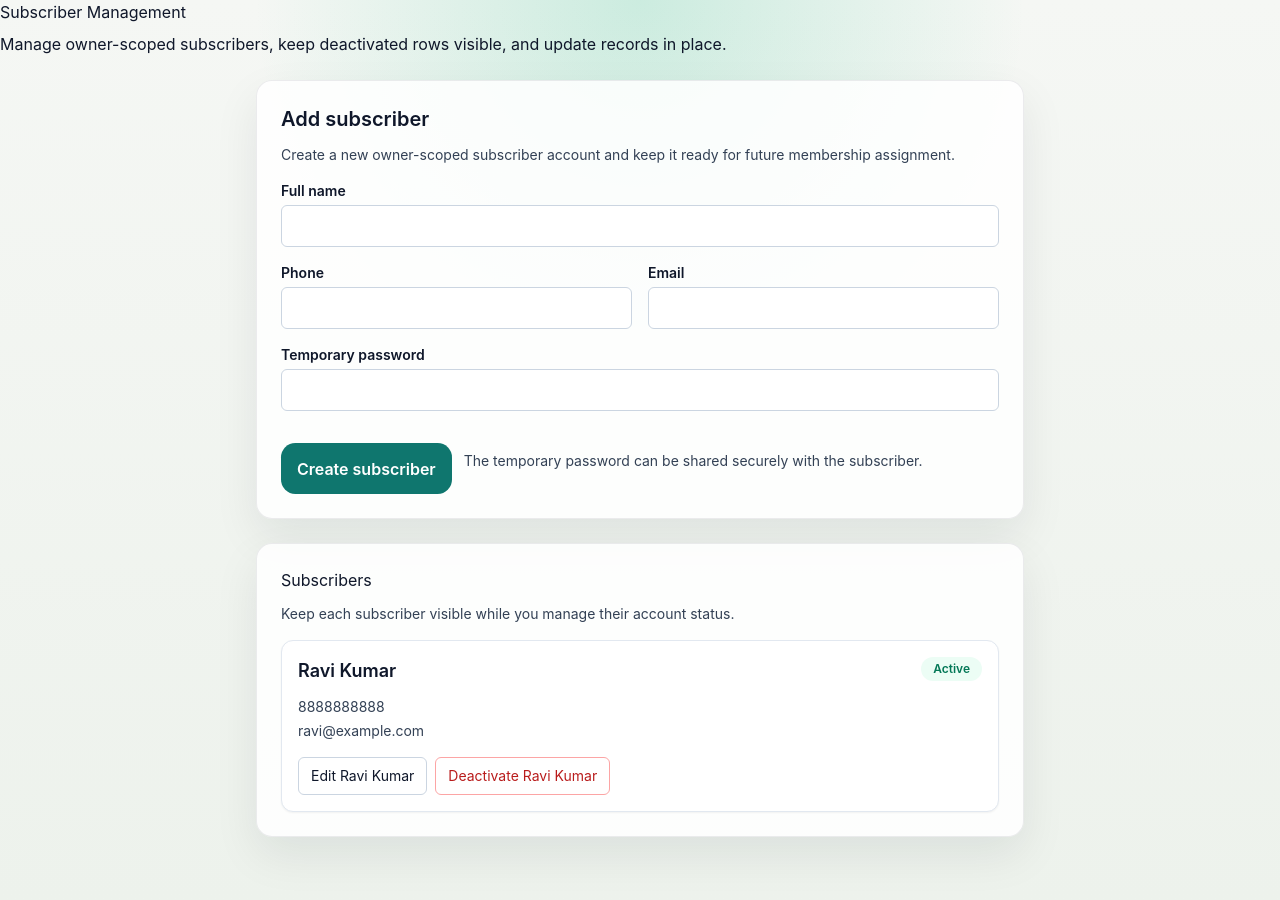
edits a subscriber in place and keeps the row visible after save
Check: the heading "Subscribers" is shown, box [281, 570, 372, 590]
Click the button "Edit Ravi Kumar".
click(363, 776)  # box [298, 757, 427, 795]
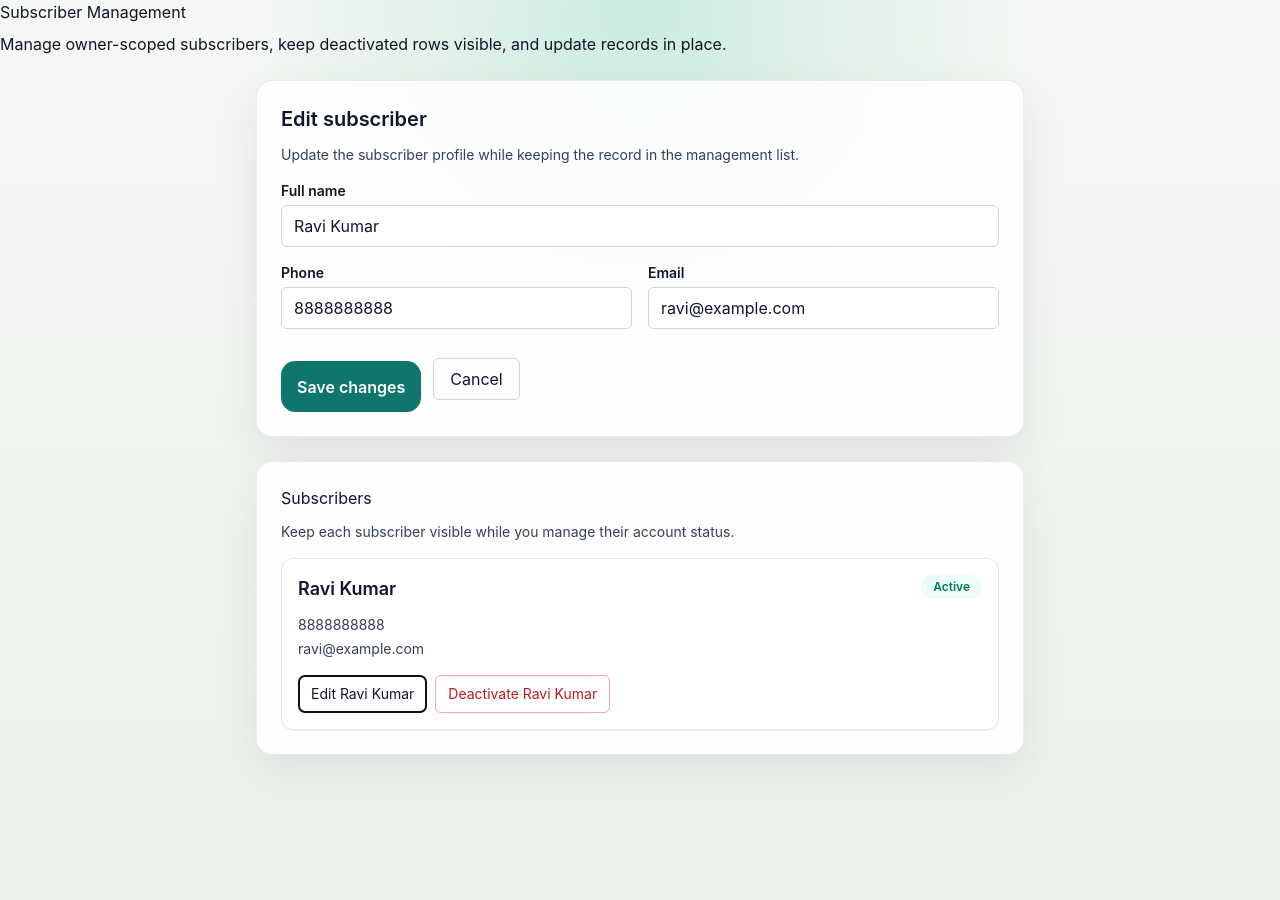
Check: the heading "Edit subscriber" is shown, box [281, 107, 427, 131]
Check: the field labelled "Full name" holds "Ravi Kumar"
Replace the text in the field labelled "Full name" with "Ravi K" at (640, 226), box [281, 205, 999, 247]
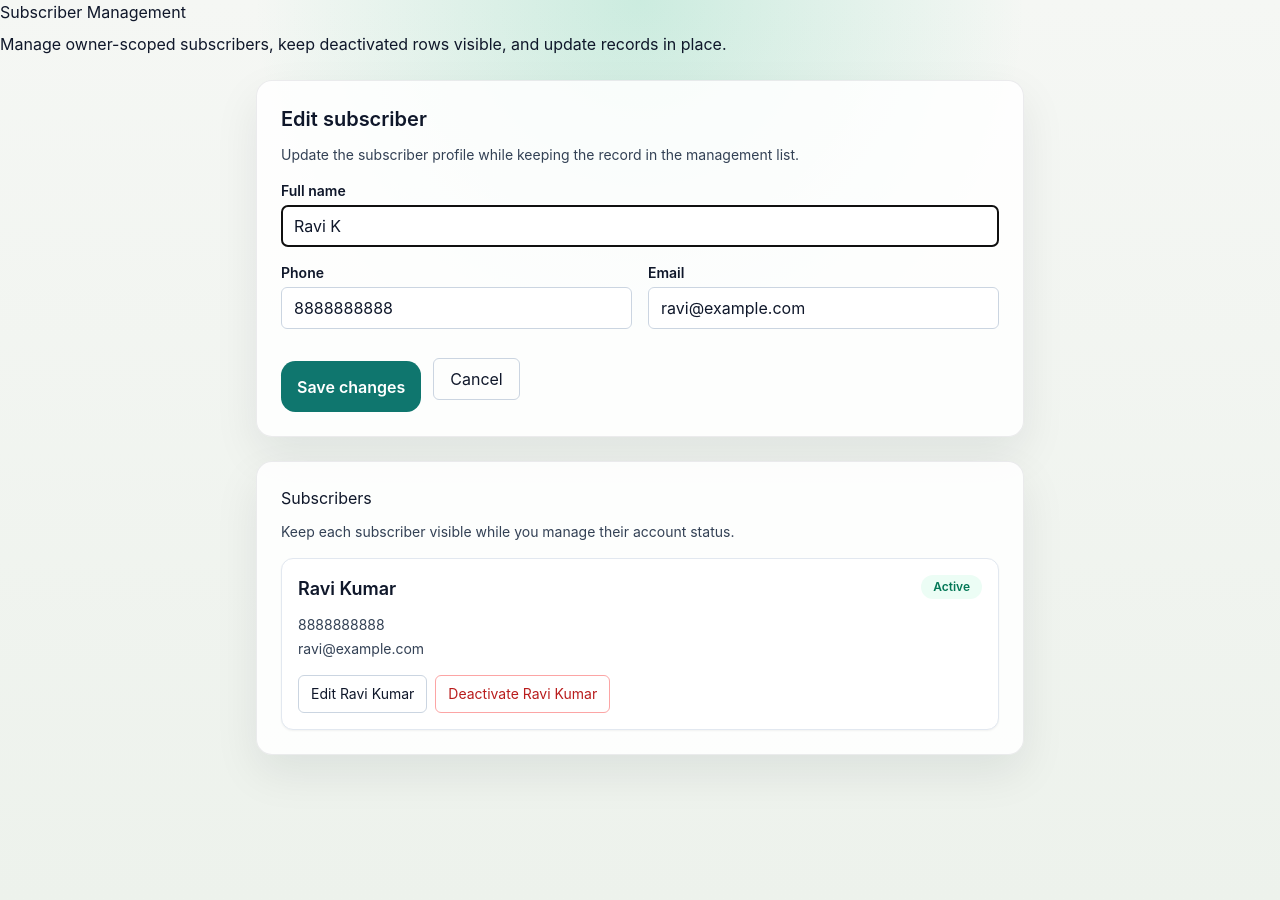
Click the button "Save changes".
click(351, 387)  # box [281, 361, 421, 412]
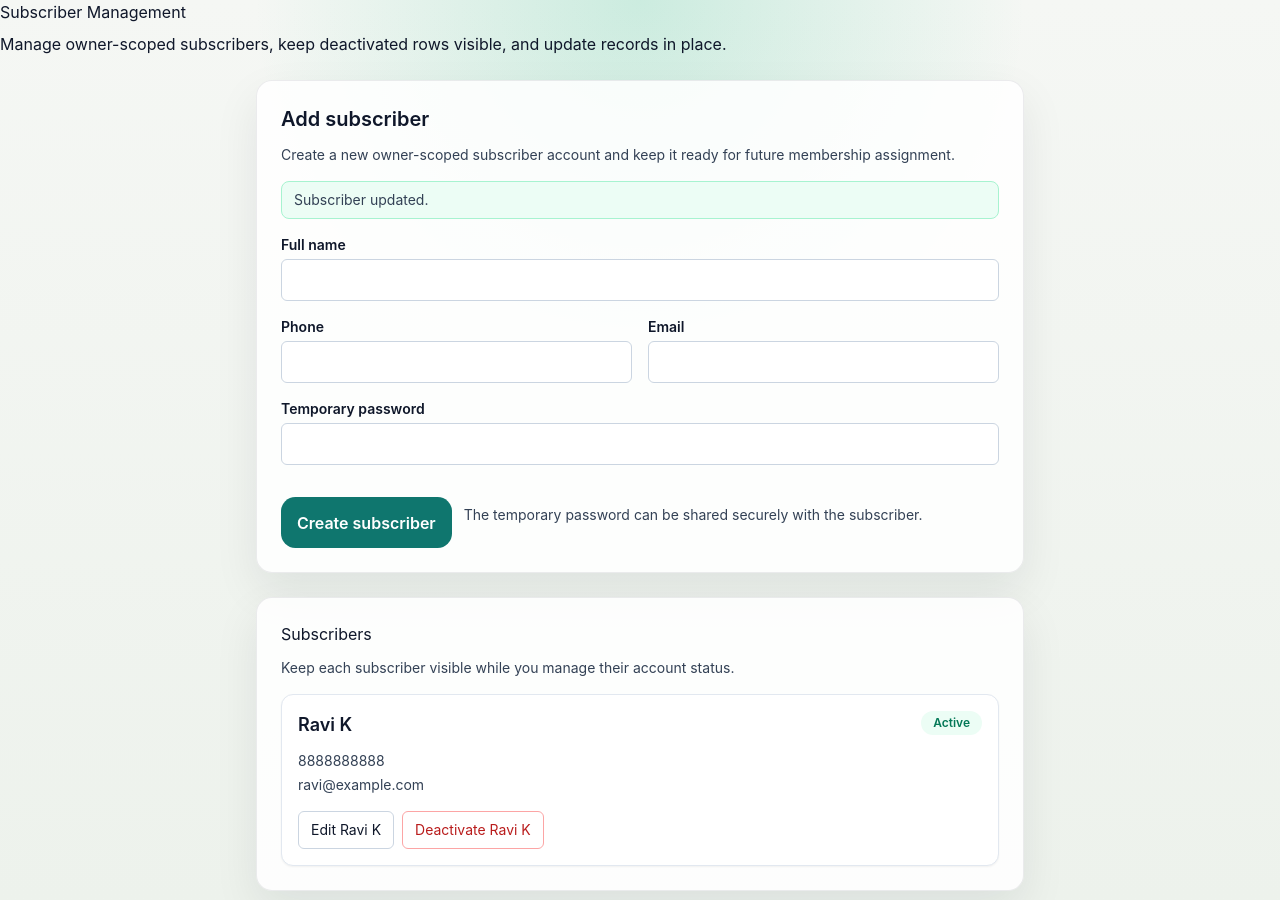
Check: the heading "Ravi K" is shown, box [298, 714, 352, 735]
Check: the text "Subscriber updated." is shown, box [281, 181, 999, 219]
